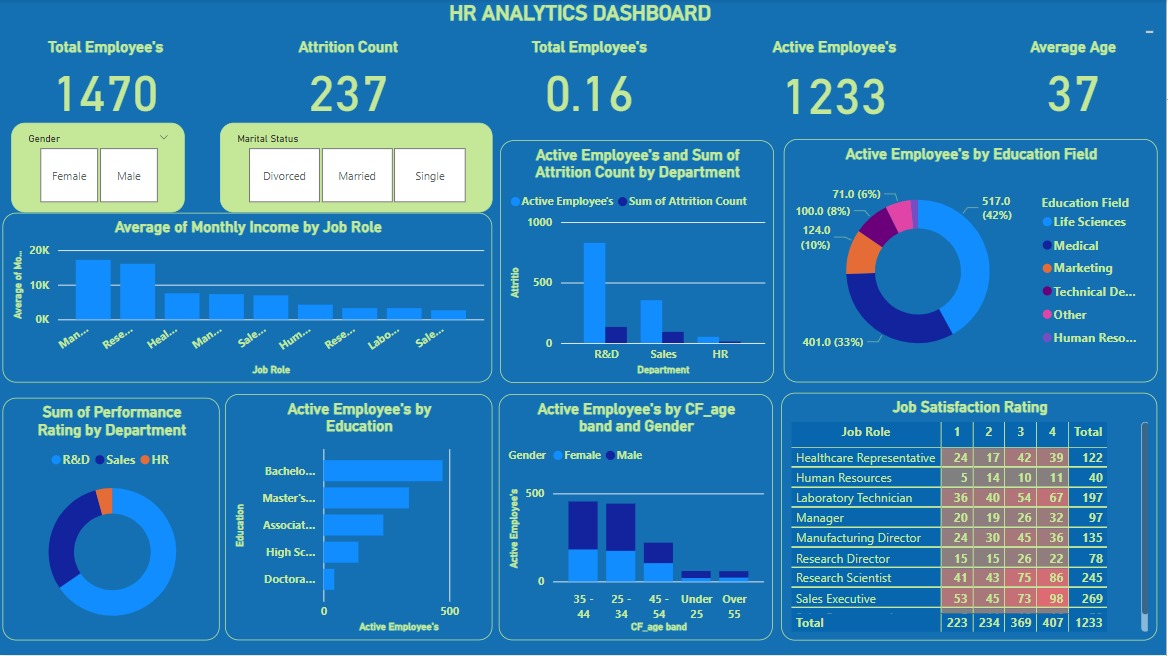

Layout of this report page (visuals, bound fields, positions):
{"tool":"powerbi","page":{"name":"Page 1","canvas":[1280,720],"ordinal":0},"visuals":[{"type":"card","title":"Total Employee''s","fields":{"Values":["Sum(HR data.Employee Count)"]},"box":[27.4,42.6,166,89.1],"z":0,"group":"g2"},{"type":"clusteredColumnChart","fields":{"Y":["HR data.Active Employee's","Sum(HR data.Attrition Count)"],"Category":["HR data.Department"]},"box":[548.9,155.1,300.5,266.2],"z":0},{"type":"card","title":"Attrition Count","fields":{"Values":["Sum(HR data.Attrition Count)"]},"box":[292.9,42.6,166,89.1],"z":1000,"group":"g2"},{"type":"donutChart","fields":{"Y":["HR data.Active Employee's"],"Category":["HR data.Education Field"]},"box":[860.4,153.7,410.3,267.6],"z":1000},{"type":"card","title":"Total Employee''s","fields":{"Values":["HR data.Attrition Rate"]},"box":[558.4,42.6,166,89.1],"z":2000,"group":"g2"},{"type":"columnChart","fields":{"Category":["HR data.CF_age band"],"Y":["HR data.Active Employee's"],"Series":["HR data.Gender"]},"box":[547.5,433.6,300.5,270.3],"z":2000},{"type":"card","title":"Active Employee''s","fields":{"Values":["HR data.Active Employee's"]},"box":[824,42.5,166,89.2],"z":3000,"group":"g2"},{"type":"pivotTable","title":"Job Satisfaction Rating","fields":{"Rows":["HR data.Job Role"],"Columns":["HR data.Job Satisfaction"],"Values":["HR data.Active Employee's"]},"box":[857.6,432.2,413,271.7],"z":3000},{"type":"card","title":"Average Age","fields":{"Values":["Avg(HR data.Age)"]},"box":[1089.5,42.6,166,89.1],"z":4000,"group":"g2"},{"type":"donutChart","fields":{"Category":["HR data.Department"],"Y":["Sum(HR data.Performance Rating)"]},"box":[2.7,437.7,238.8,266.2],"z":4000},{"type":"clusteredBarChart","fields":{"Category":["HR data.Education"],"Y":["HR data.Active Employee's"]},"box":[247,433.6,293.7,270.3],"z":5000},{"type":"columnChart","fields":{"Category":["HR data.Job Role"],"Y":["Avg(HR data.Monthly Income)"]},"box":[2.7,234.6,537.9,186.6],"z":6000},{"type":"slicer","fields":{"Values":["HR data.Gender"]},"box":[12.3,135.8,190.7,98.8],"z":7000},{"type":"slicer","fields":{"Values":["HR data.Marital Status"]},"box":[241.5,135.8,299.1,98.8],"z":8000},{"type":"group","id":"g1","title":"Group 1","box":[27.4,42.5,1228.1,89.2],"z":9000},{"type":"textbox","title":"HR ANALYTICS DASHBOARD","box":[2.7,1.4,1267.9,41.2],"z":10000},{"type":"group","id":"g2","title":"Group 2","box":[27.4,42.5,1228.1,89.2],"z":10001,"group":"g1"}]}

Visuals, with their boxes in screenshot pixels (x1, y1, x2, y2), scaled from the page's 1280x720 canvas onto the 1168x656 screenshot:
"Total Employee''s" card: (left=25, top=39, right=176, bottom=120)
clusteredColumnChart - HR data.Active Employee's x Sum(HR data.Attrition Count): (left=501, top=141, right=775, bottom=384)
"Attrition Count" card: (left=267, top=39, right=419, bottom=120)
donutChart - HR data.Active Employee's x HR data.Education Field: (left=785, top=140, right=1160, bottom=384)
"Total Employee''s" card: (left=510, top=39, right=661, bottom=120)
columnChart - HR data.CF_age band x HR data.Active Employee's: (left=500, top=395, right=774, bottom=641)
"Active Employee''s" card: (left=752, top=39, right=903, bottom=120)
"Job Satisfaction Rating" pivotTable: (left=783, top=394, right=1159, bottom=641)
"Average Age" card: (left=994, top=39, right=1146, bottom=120)
donutChart - HR data.Department x Sum(HR data.Performance Rating): (left=2, top=399, right=220, bottom=641)
clusteredBarChart - HR data.Education x HR data.Active Employee's: (left=225, top=395, right=493, bottom=641)
columnChart - HR data.Job Role x Avg(HR data.Monthly Income): (left=2, top=214, right=493, bottom=384)
slicer - HR data.Gender: (left=11, top=124, right=185, bottom=214)
slicer - HR data.Marital Status: (left=220, top=124, right=493, bottom=214)
"Group 1" group: (left=25, top=39, right=1146, bottom=120)
"HR ANALYTICS DASHBOARD" textbox: (left=2, top=1, right=1159, bottom=39)
"Group 2" group: (left=25, top=39, right=1146, bottom=120)
